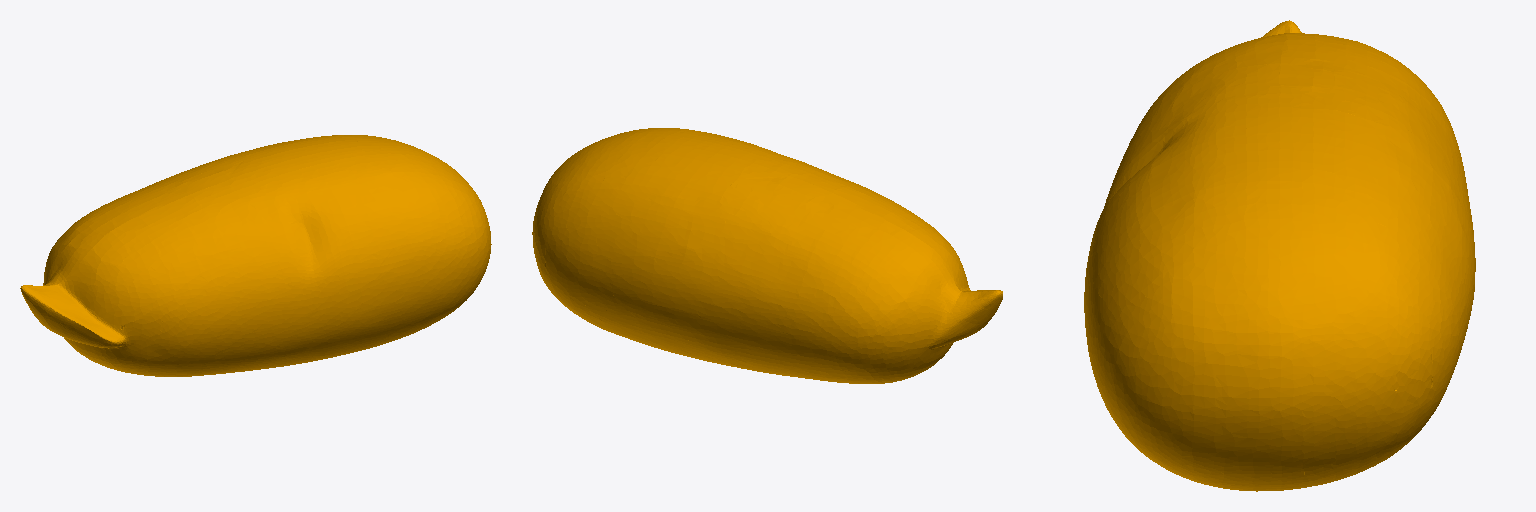
URDF robot description (sample):
<?xml version='1.0' encoding='utf-8'?>
<robot name="sample">
    <link name="sample">
        <visual>
            <origin xyz="0 0 0" rpy="1.5708 0.0 0.0" />
            <geometry>
                <mesh filename="mesh/sample.obj" scale="1.0 1.0 1.0" />
            </geometry>
        </visual>
        <collision>
            <origin xyz="0 0 0" rpy="1.5708 0.0 0.0" />
            <geometry>
                <mesh filename="mesh/sample_collision.obj" scale="1.0 1.0 1.0" />
            </geometry>
            <gazebo>
                <mu1>0.80</mu1> 
                <mu2>0.60</mu2> 
            </gazebo>
        </collision>
        <inertial>
            <mass value="1.0000" />
            <origin xyz="0 0 0" />
            <inertia ixx="1.0" ixy="0.0" ixz="0.0" iyy="1.0" iyz="0.0" izz="1.0" />
        </inertial>
        <extra_info>
            <scale>0.110000</scale>
            <version>v0.1.7</version>
            <category>toy</category>
            <description>toy</description>
            <min_height>0.04</min_height>
            <max_height>0.05</max_height>
            <real_height>0.045</real_height>
            <min_mass>0.05</min_mass>
            <max_mass>0.15</max_mass>
            <color>unknown</color>
            <rgba>[0.5, 0.5, 0.5, 1.0]</rgba>
            <generate_time>20260813162817</generate_time>
            <gs_model>""</gs_model>
        </extra_info>
    </link>
</robot>

--- Render facts (derived) ---
Views: 3 orthographic renders of the robot side by side, from view 1: azimuth 30°, elevation 25°; view 2: azimuth 150°, elevation 25°; view 3: azimuth 270°, elevation 25°.
Model sample with 1 links and 0 joints (none), rooted at sample, posed every joint at zero.
Visible links, largest first — view 1: sample; view 2: sample; view 3: sample.
Boxes of the visible links, box(x1,y1,x2,y2) form: sample: box(20, 135, 491, 376); sample: box(532, 128, 1002, 383); sample: box(1084, 20, 1475, 491).
Size in the robot's own frame: 0.11 by 0.053 by 0.045 metres.
Meshes: 1 distinct files referenced, 1 mesh visuals loaded (1 OBJ).
